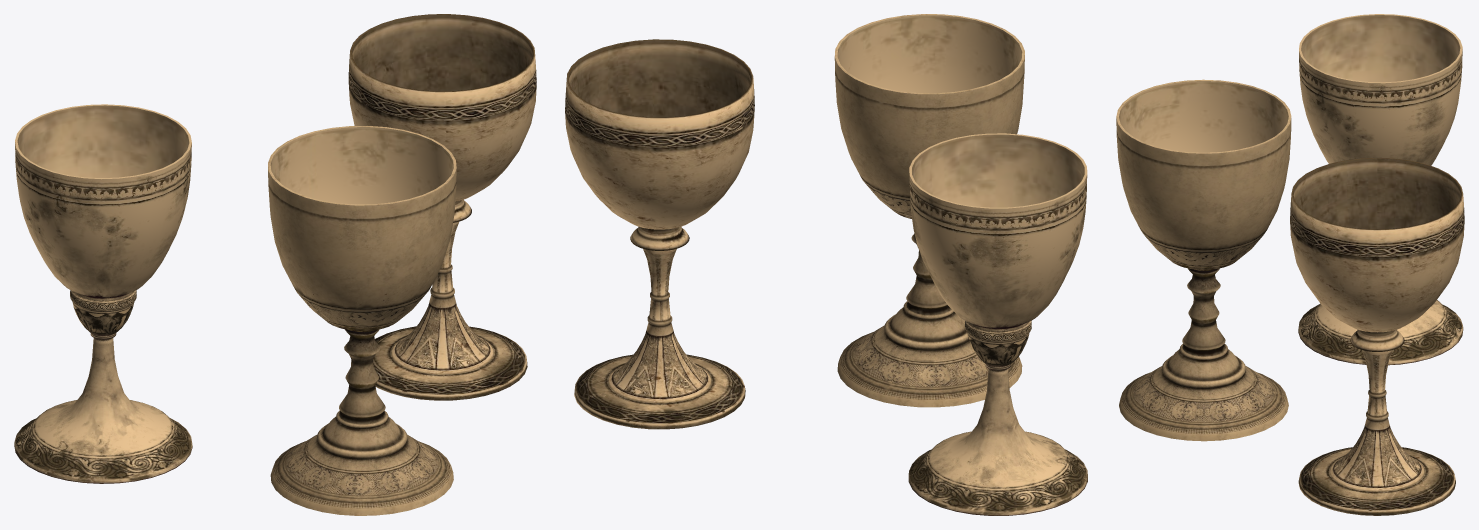
The model's file is brass_goblets.glb.
3 renders of one model, left to right at view 1: azimuth 30°, elevation 25°; view 2: azimuth 150°, elevation 25°; view 3: azimuth 270°, elevation 25°, orthographic. The views are drawn at different scales.
Parts seen in each view (by area): view 1: brass_goblet_01_mesh, brass_goblet_02_mesh, brass_goblet_03_mesh; view 2: brass_goblet_02_mesh, brass_goblet_03_mesh, brass_goblet_01_mesh; view 3: brass_goblet_01_mesh, brass_goblet_03_mesh, brass_goblet_02_mesh.
Boxes of the visible parts, box(x1,y1,x2,y2) form: brass_goblet_01_mesh: box(268, 126, 456, 515); brass_goblet_02_mesh: box(14, 104, 192, 483); brass_goblet_03_mesh: box(348, 14, 536, 400); brass_goblet_02_mesh: box(908, 133, 1087, 515); brass_goblet_03_mesh: box(565, 39, 754, 429); brass_goblet_01_mesh: box(834, 14, 1024, 407); brass_goblet_01_mesh: box(1116, 79, 1291, 441); brass_goblet_03_mesh: box(1290, 157, 1464, 515); brass_goblet_02_mesh: box(1298, 14, 1463, 365).
Size of the model in its own units: 0.4534 by 0.2734 by 0.2976.
3 materials, 3 textured.
